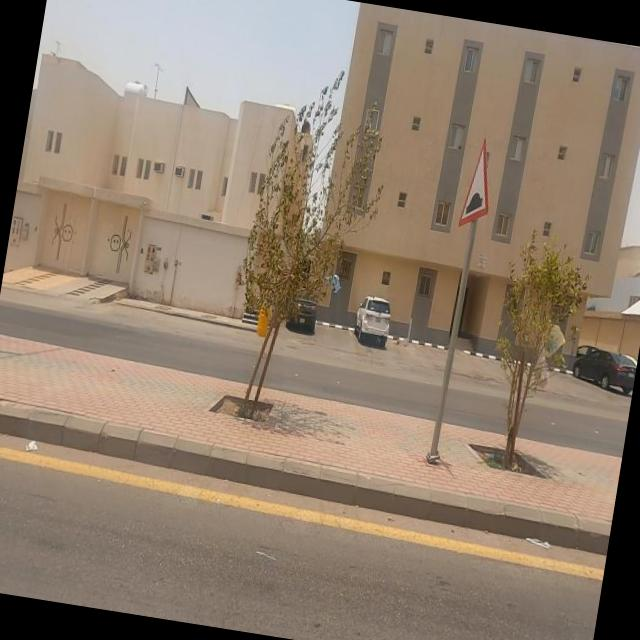debris: (299, 226, 374, 340), (0, 421, 78, 474)
